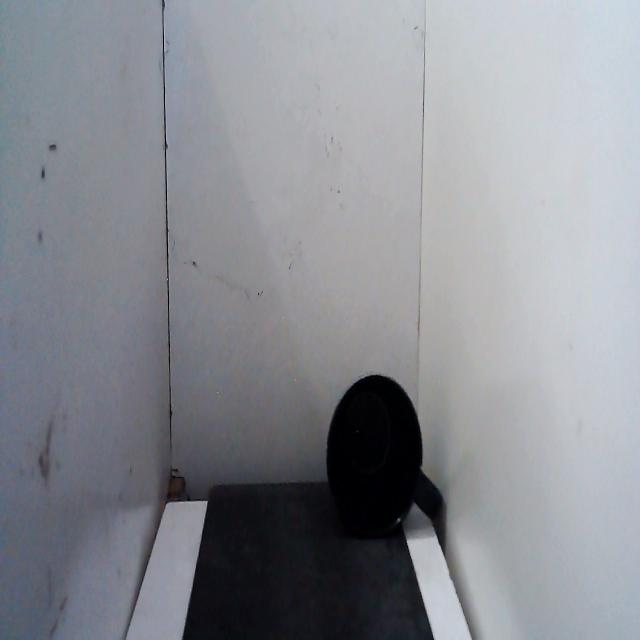vidro: (322, 362, 447, 552)
